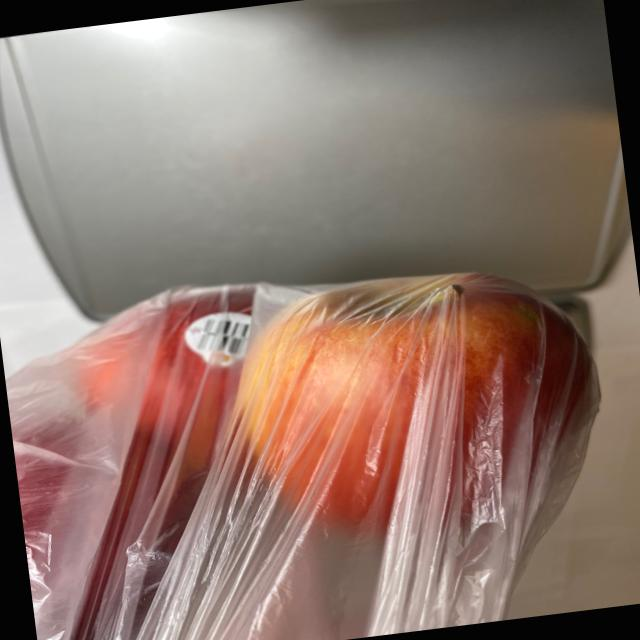apple: (0, 238, 622, 628)
